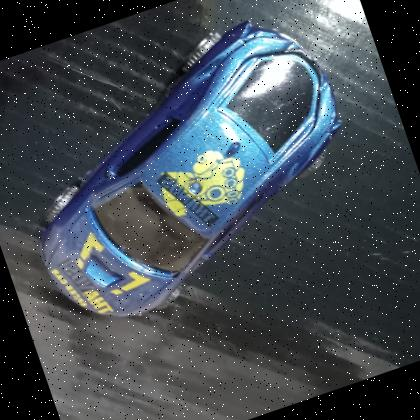Car: (0, 0, 390, 348)
